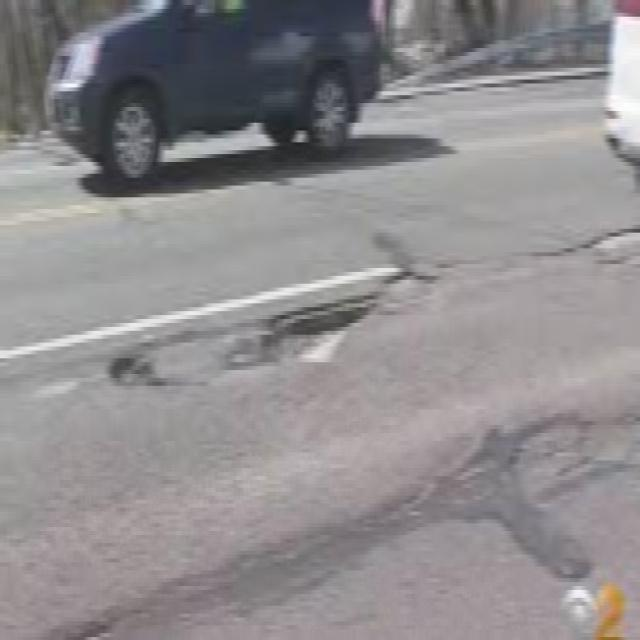Pothole: (421, 402, 621, 503), (250, 290, 382, 372), (85, 340, 207, 394), (556, 222, 639, 284)
